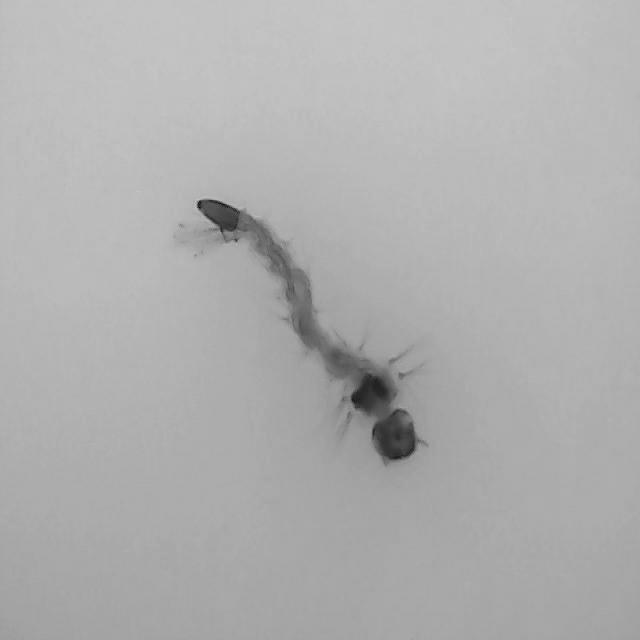larvas: (198, 200, 420, 462)
